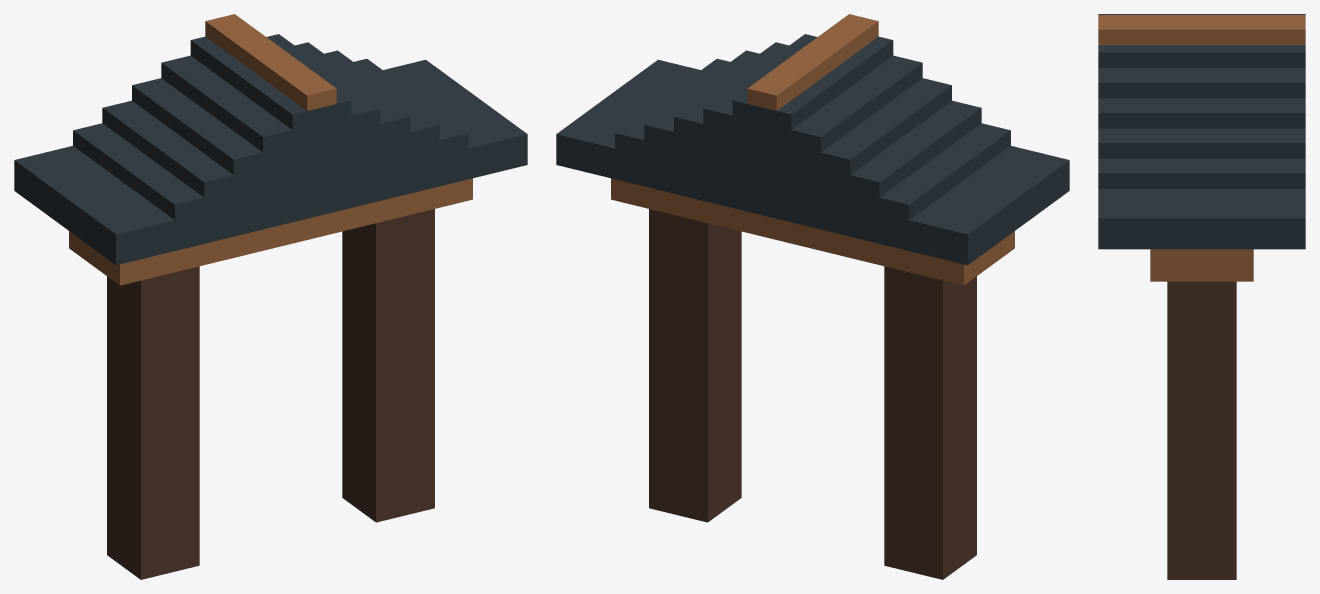
File: gate.glb
3 renders of one model, left to right at view 1: azimuth 30°, elevation 25°; view 2: azimuth 150°, elevation 25°; view 3: azimuth 270°, elevation 25°, orthographic.
Parts seen in each view (by area): view 1: Shell; view 2: Shell; view 3: Shell.
Part boxes in pixels (left/top/right/bottom): Shell: left=14, top=14, right=527, bottom=579; Shell: left=556, top=14, right=1069, bottom=579; Shell: left=1098, top=14, right=1305, bottom=579.
Size of the model in its own units: 3.5 by 3.88 by 1.5.
